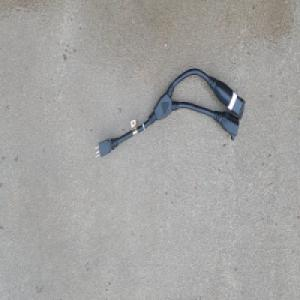Wire: (92, 66, 247, 160)
